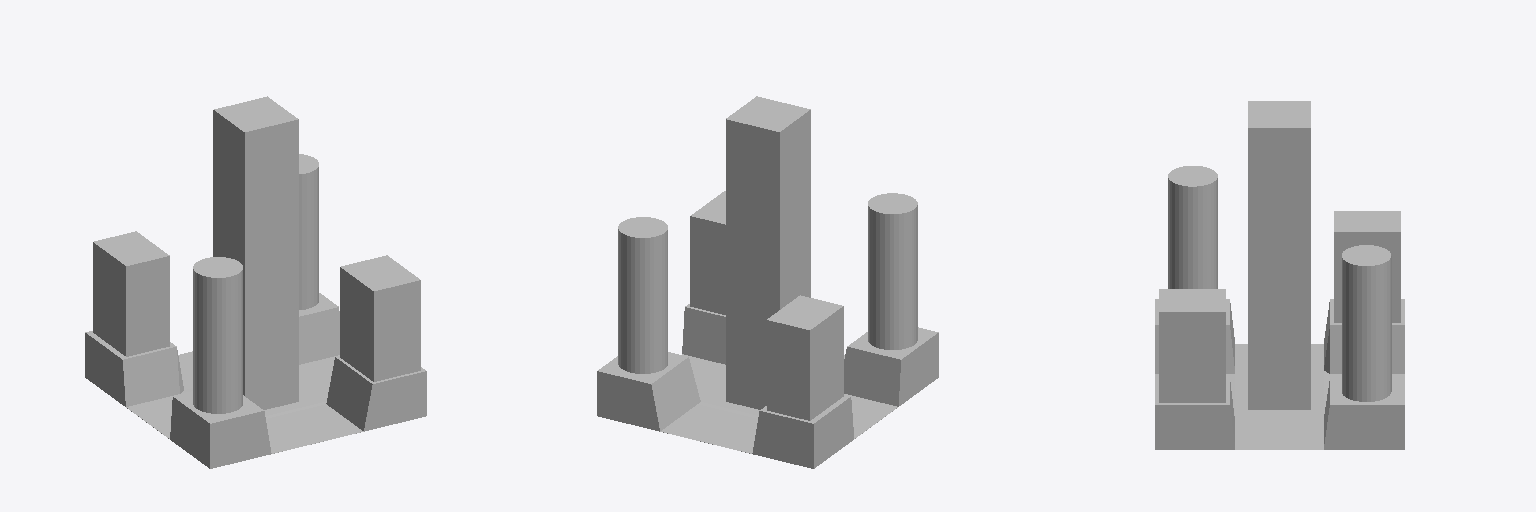
File: factory.obj
3 views of the same model, side by side, from view 1: azimuth 30°, elevation 25°; view 2: azimuth 150°, elevation 25°; view 3: azimuth 270°, elevation 25° (orthographic).
Visible parts, largest first — view 1: Cube_Cube.006; view 2: Cube_Cube.006; view 3: Cube_Cube.006.
Part boxes in pixels (x1,y1,x2,y2): Cube_Cube.006: (85,96,426,468); Cube_Cube.006: (597,96,938,468); Cube_Cube.006: (1155,101,1404,449).
Bounding box in the file's own units: 1 × 1.25 × 1.